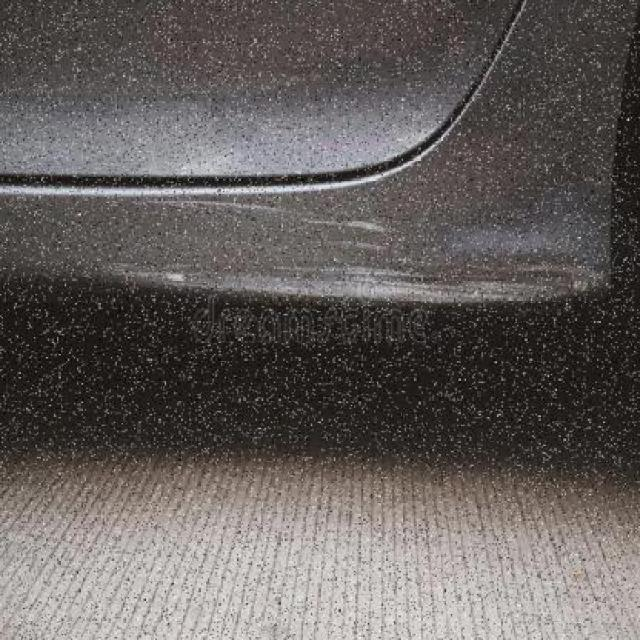RunningBoard-Dent: (0, 166, 624, 327)
